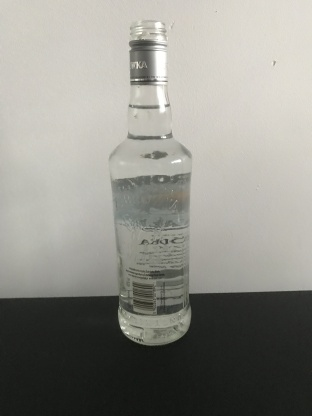nakretka: (127, 20, 169, 86)
